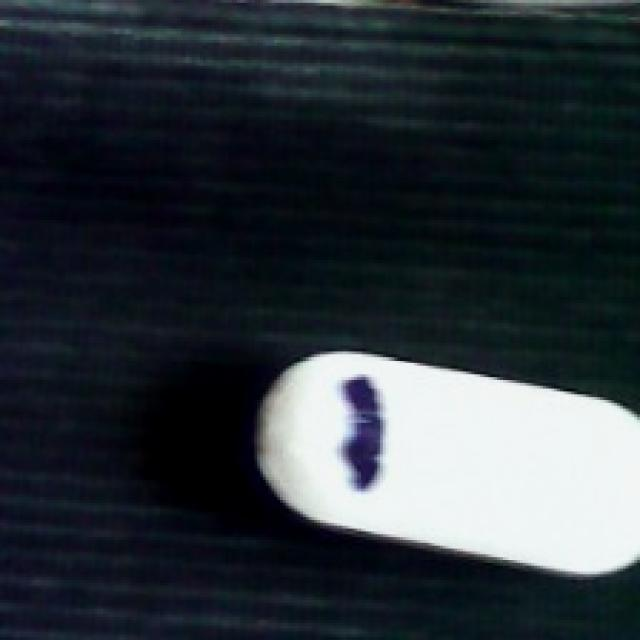defected: (243, 354, 637, 574)
